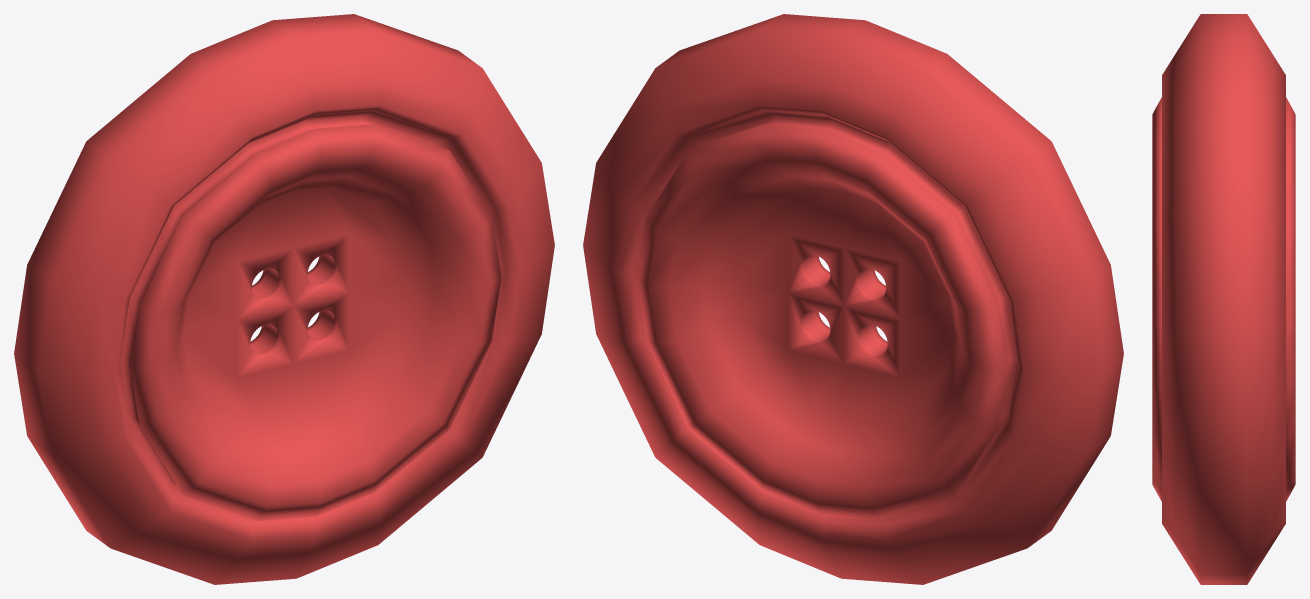
Rendered from button.fbx.
The picture shows the model from 3 angles, left to right: view 1: azimuth 30°, elevation 25°; view 2: azimuth 150°, elevation 25°; view 3: azimuth 270°, elevation 25°; orthographic projection. The views are drawn at different scales.
Parts seen in each view (by area): view 1: Cube; view 2: Cube; view 3: Cube.
Boxes of the visible parts, x1,y1,x2,y2 form: Cube: [14, 14, 554, 584]; Cube: [583, 14, 1123, 584]; Cube: [1152, 14, 1295, 584].
Size of the model in its own units: 1 by 1 by 0.2507.
